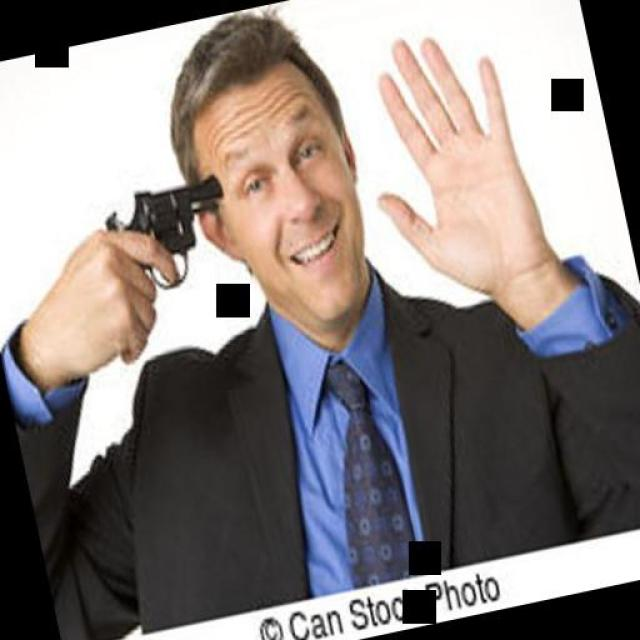gun: (98, 168, 242, 304)
